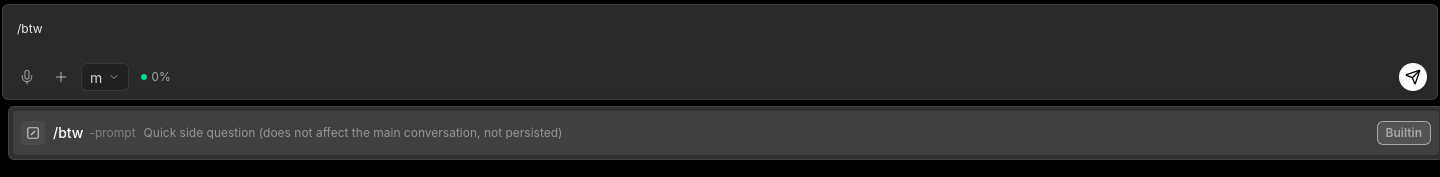
Test: AgentInput /btw 命令 › 命令面板选中 /btw 回显 /btw -prompt
Expected: the field with class "cm-content" is shown, [17,21,43,36]
Press the mouse on the option "/btw": (68, 132) [13,111,1439,155]
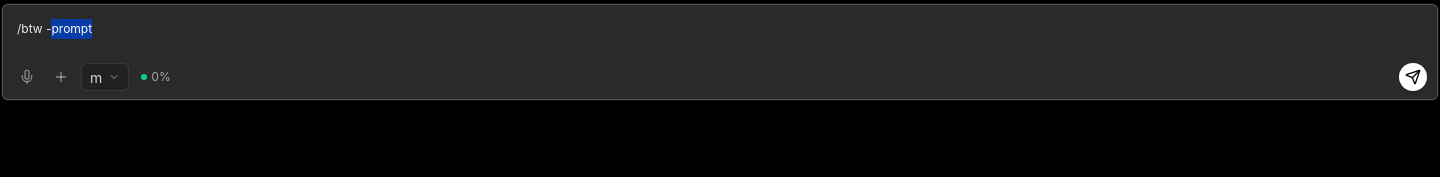
Result: the text box labelled "/btw -prompt" is shown at [17,21,92,36]
